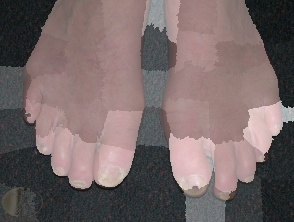Nail_psoriasis: (174, 159, 221, 205), (93, 159, 132, 193), (213, 183, 239, 206), (67, 176, 95, 192), (237, 170, 258, 188), (48, 164, 71, 178), (253, 150, 270, 167), (22, 111, 40, 126), (271, 121, 287, 137), (35, 143, 52, 156)
